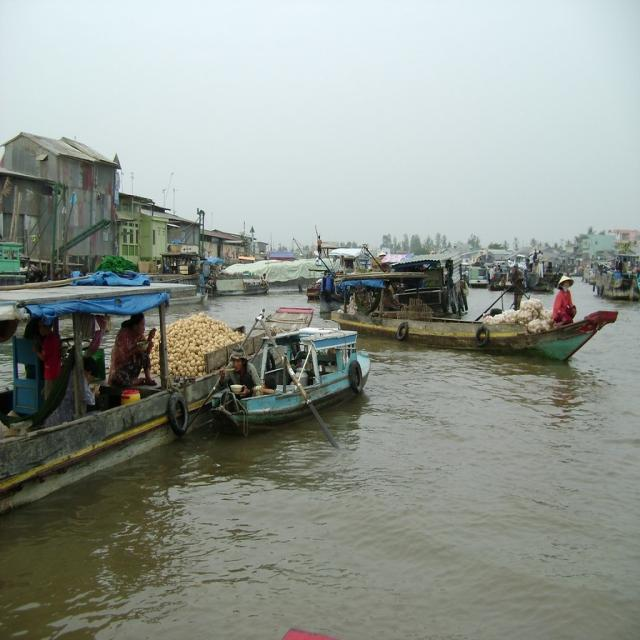boat: (0, 282, 319, 501), (324, 308, 624, 366), (232, 329, 376, 422), (592, 264, 640, 304)
